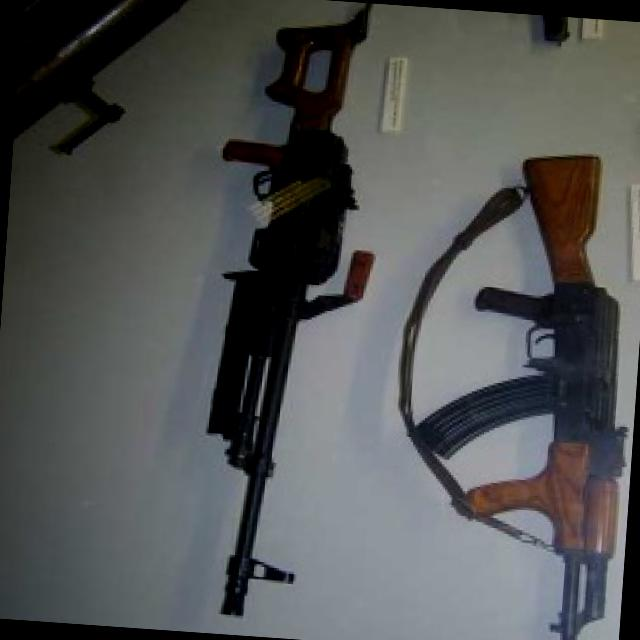long weapon: (172, 0, 370, 638)
